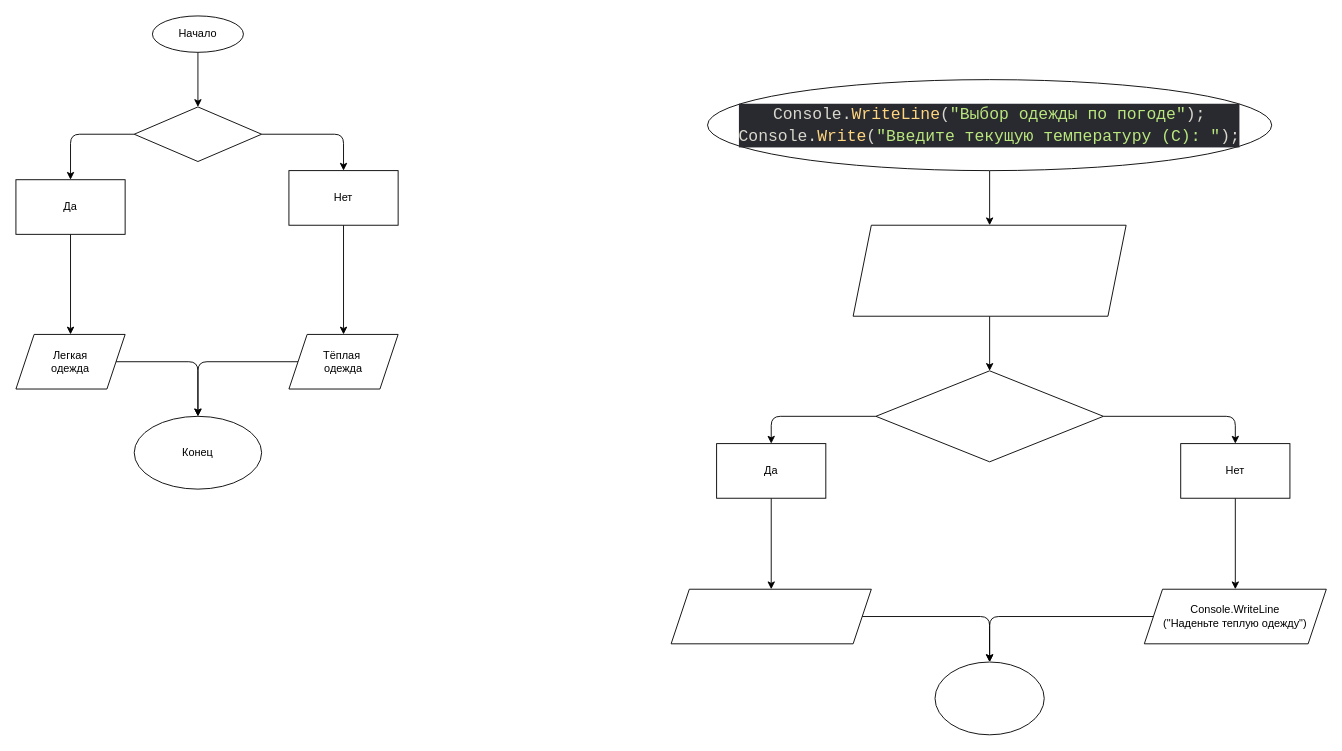
The diagram is 1342 pixels wide and 751 high, and some of its shapes have lost their labels. Each missing label, with the box of its shape:
Console.WriteLine ("Наденьте легкую одежду");: (670, 588, 871, 644)
Console.WriteLine ("Хорошего дня!");: (934, 661, 1044, 735)
if (temperature > 20 ): (875, 370, 1103, 462)
int temperature = Convert.ToInt32 (Console.ReadLine());: (852, 224, 1126, 316)
Температура >20C?: (133, 106, 262, 162)
